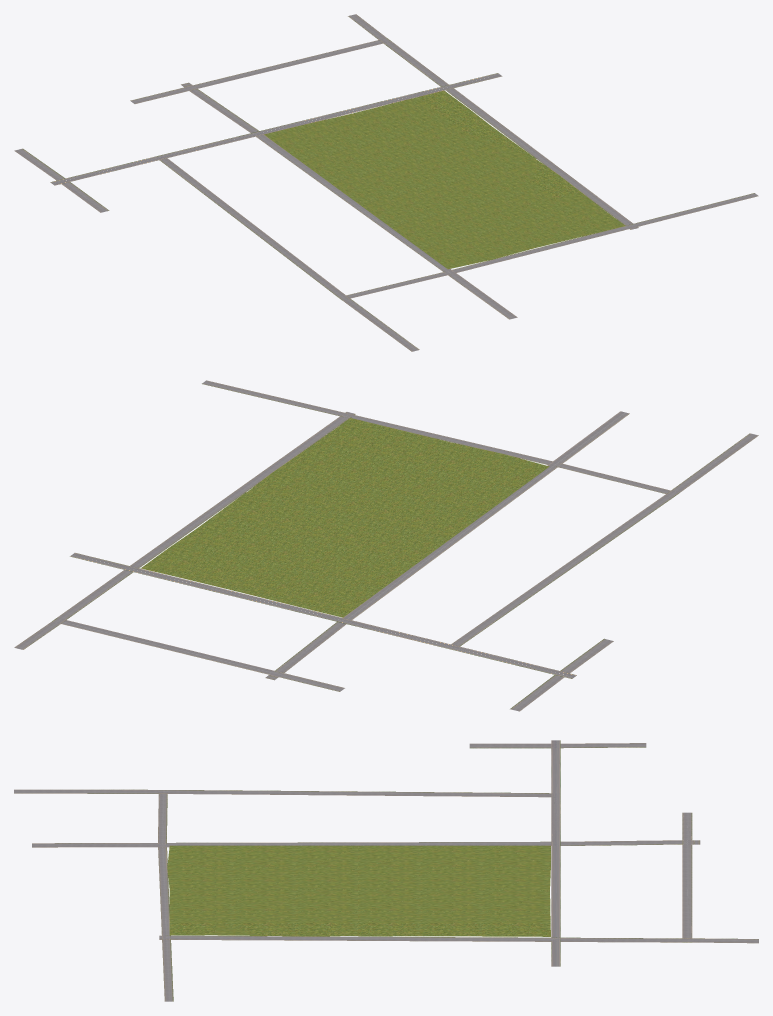
File: city.obj
3 renders of one model, top to bottom at view 1: azimuth 30°, elevation 25°; view 2: azimuth 150°, elevation 25°; view 3: azimuth 270°, elevation 25°, orthographic. The views are drawn at different scales.
Parts seen in each view (by area): view 1: Plano, Plane; view 2: Plano, Plane; view 3: Plano, Plane.
Part boxes in pixels (x1,y1,x2,y2): Plano: [264, 90, 625, 269]; Plane: [14, 14, 758, 351]; Plano: [141, 418, 549, 617]; Plane: [14, 380, 758, 711]; Plano: [167, 845, 550, 936]; Plane: [14, 740, 758, 1001].
Size of the model in its own units: 424 by 0.1953 by 511.
Materials: 2 (2 with a texture image).
